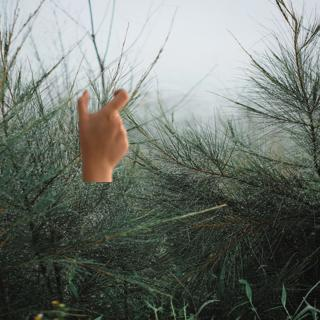HATE: (67, 82, 134, 184)
